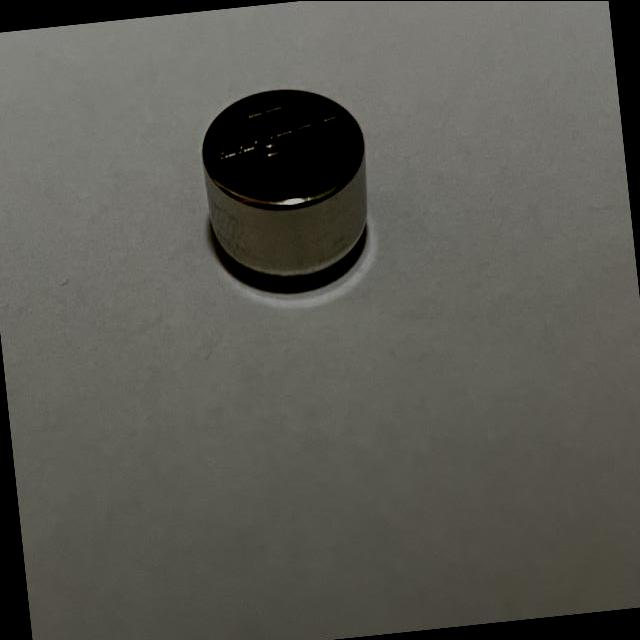COIN: (194, 78, 379, 299)
